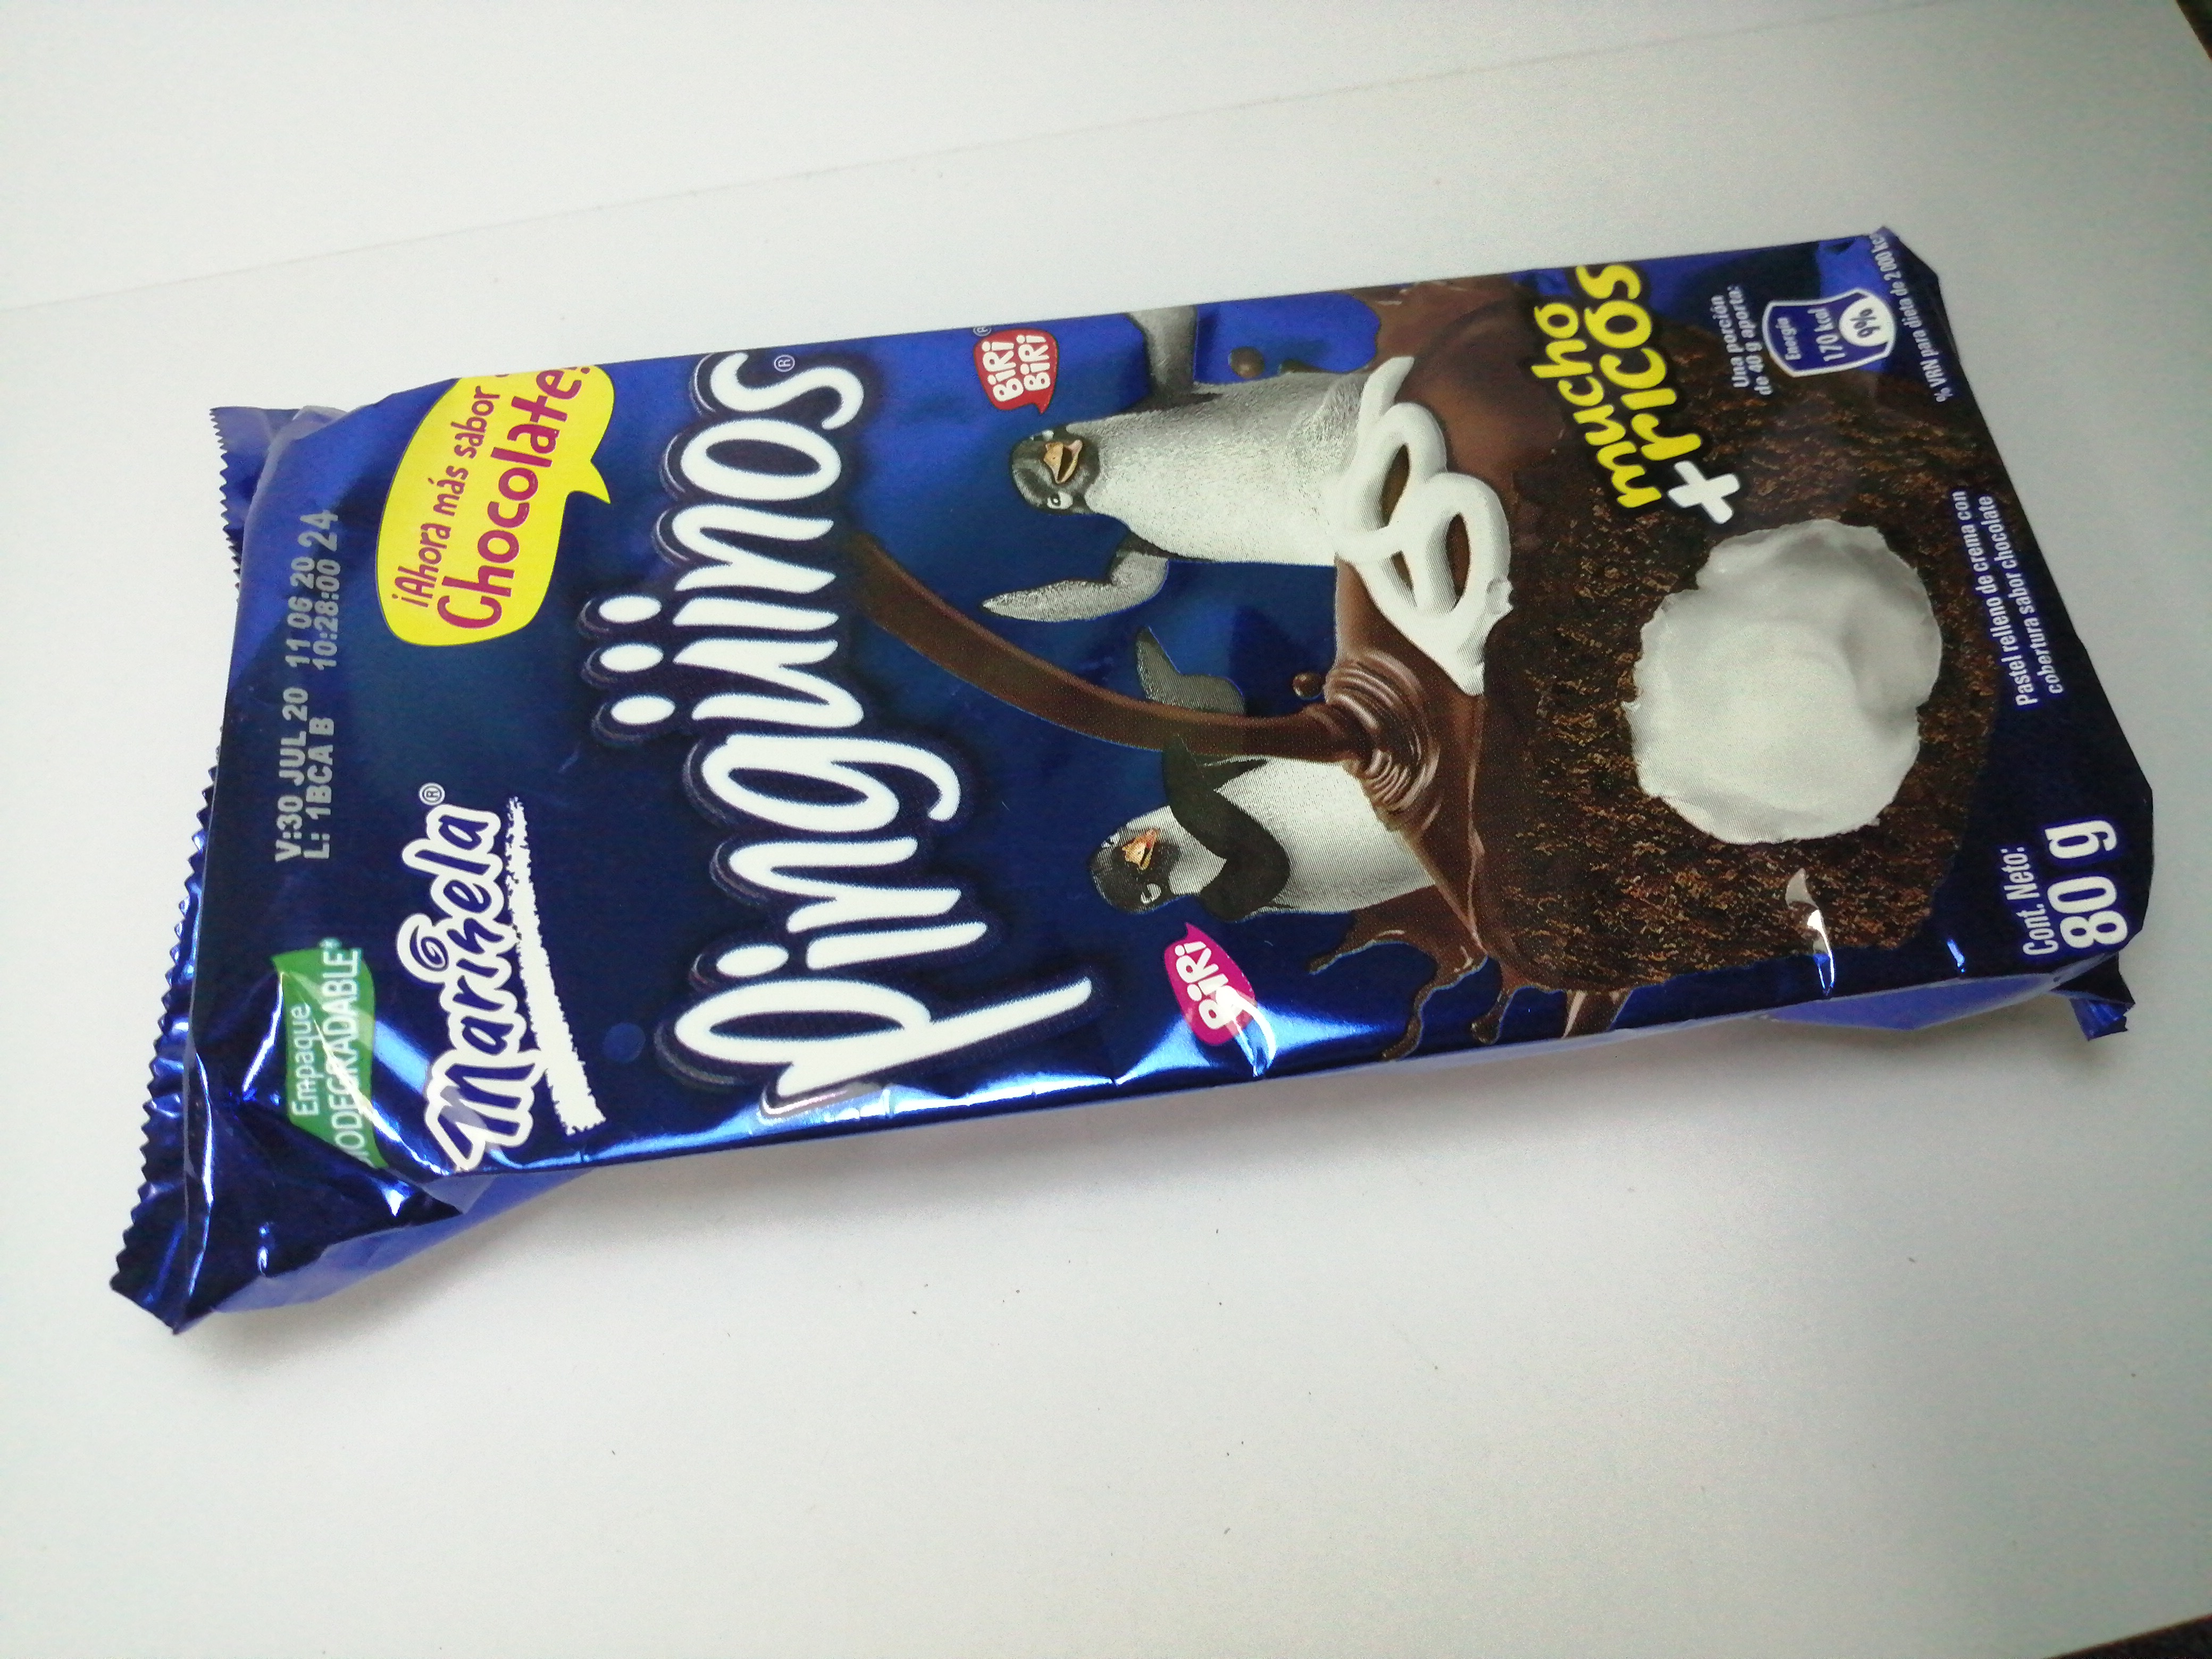pinguino: (105, 225, 2153, 1331)
